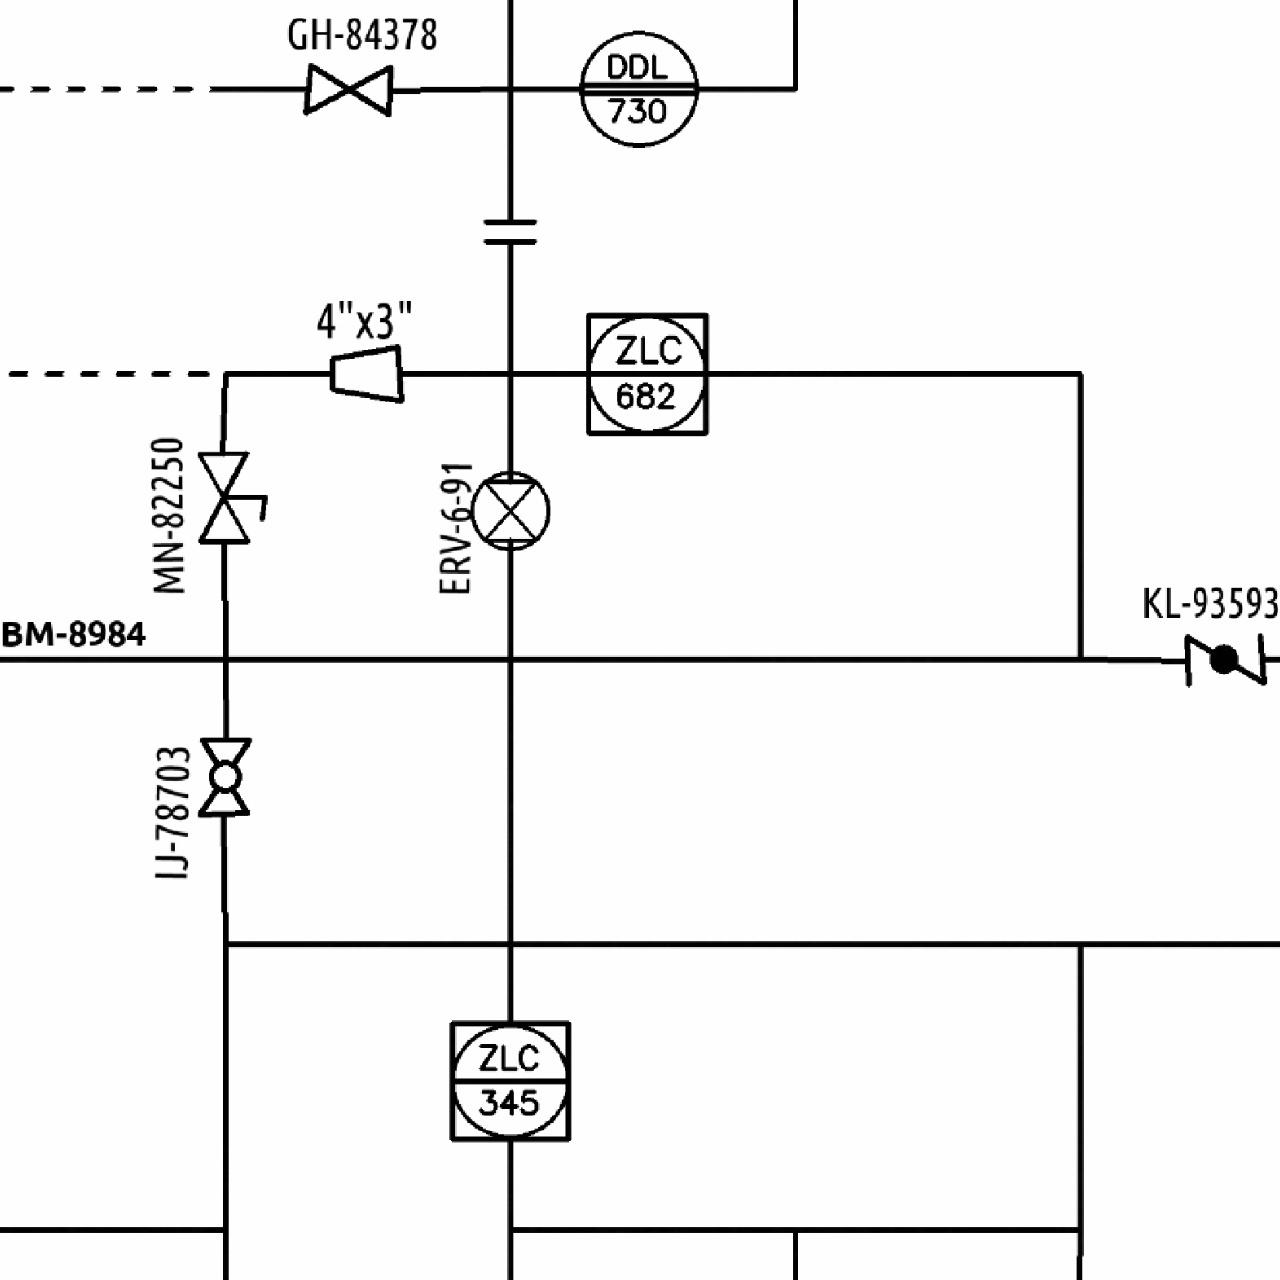Control-Panel: (574, 23, 702, 152)
